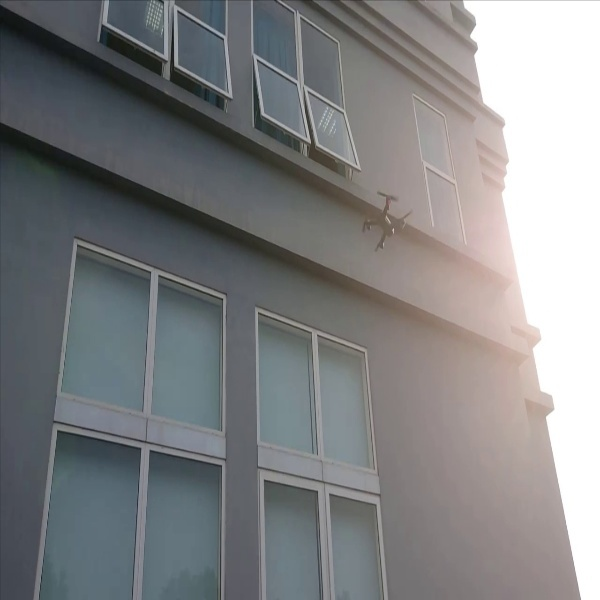drone: (359, 189, 415, 258)
